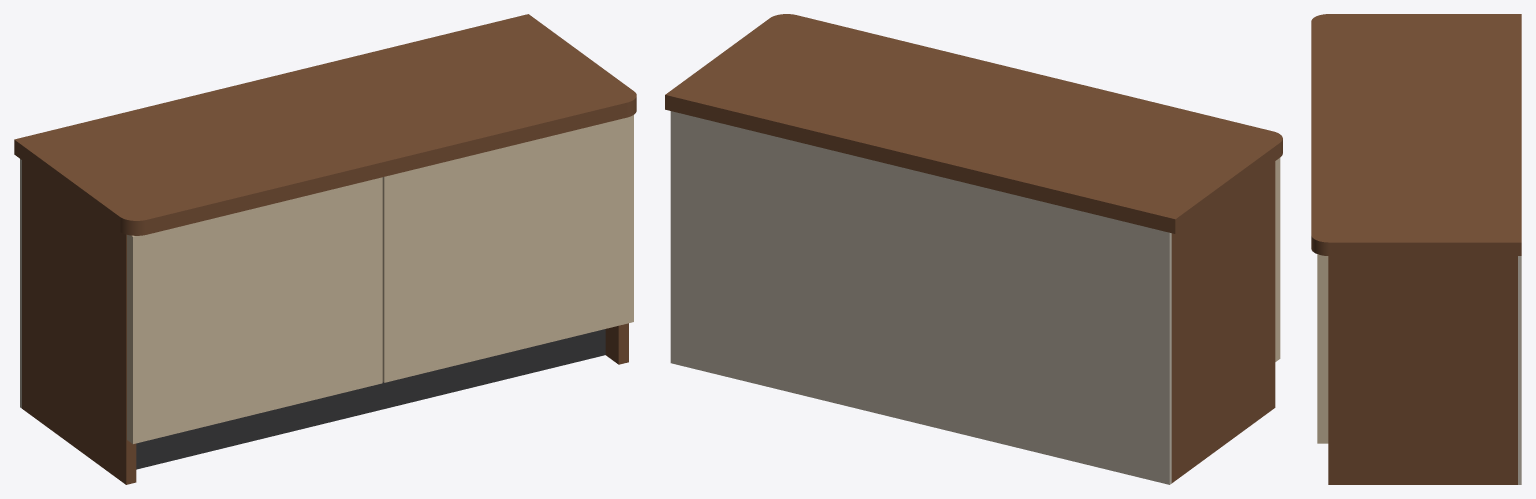
The picture shows the model from 3 angles, left to right: view 1: azimuth 30°, elevation 25°; view 2: azimuth 150°, elevation 25°; view 3: azimuth 270°, elevation 25°; orthographic projection. The views are drawn at different scales.
Visible parts, largest first — view 1: S01-P10_Seat_top, S01-P11_Door_bay1, S01-P12_Door_bay2, S01-P01_Side_panel_L, S01-P04_Kick_rail_(front_plinth), S01-P02_Side_panel_R; view 2: S01-P09_Back_panel, S01-P10_Seat_top, S01-P01_Side_panel_L, S01-P11_Door_bay1; view 3: S01-P10_Seat_top, S01-P02_Side_panel_R, S01-P12_Door_bay2, S01-P09_Back_panel.
Boxes of the visible parts, x1,y1,x2,y2 form: S01-P10_Seat_top: [14, 14, 636, 235]; S01-P11_Door_bay1: [127, 177, 382, 443]; S01-P12_Door_bay2: [382, 115, 633, 382]; S01-P01_Side_panel_L: [22, 160, 136, 484]; S01-P04_Kick_rail_(front_plinth): [136, 329, 605, 469]; S01-P02_Side_panel_R: [605, 323, 628, 364]; S01-P09_Back_panel: [670, 111, 1171, 484]; S01-P10_Seat_top: [665, 14, 1282, 233]; S01-P01_Side_panel_L: [1171, 161, 1275, 483]; S01-P11_Door_bay1: [1275, 158, 1280, 361]; S01-P10_Seat_top: [1311, 14, 1521, 255]; S01-P02_Side_panel_R: [1328, 256, 1517, 484]; S01-P12_Door_bay2: [1317, 254, 1328, 443]; S01-P09_Back_panel: [1518, 256, 1521, 484].
Bounding box in the file's own units: 900 × 450 × 350.
